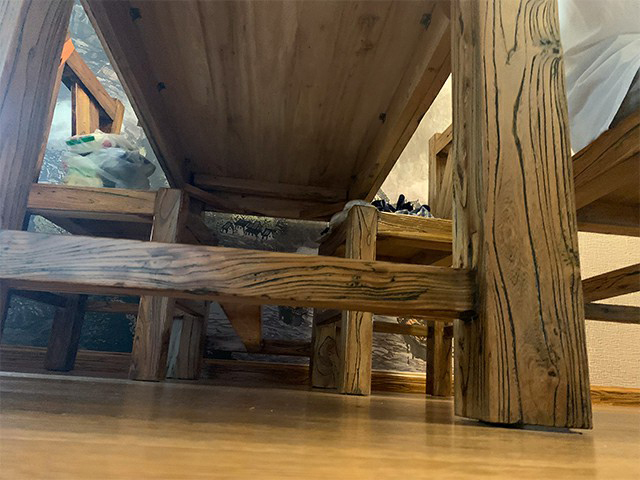stool: (26, 31, 218, 383), (309, 122, 457, 401)
table: (1, 1, 593, 434)
